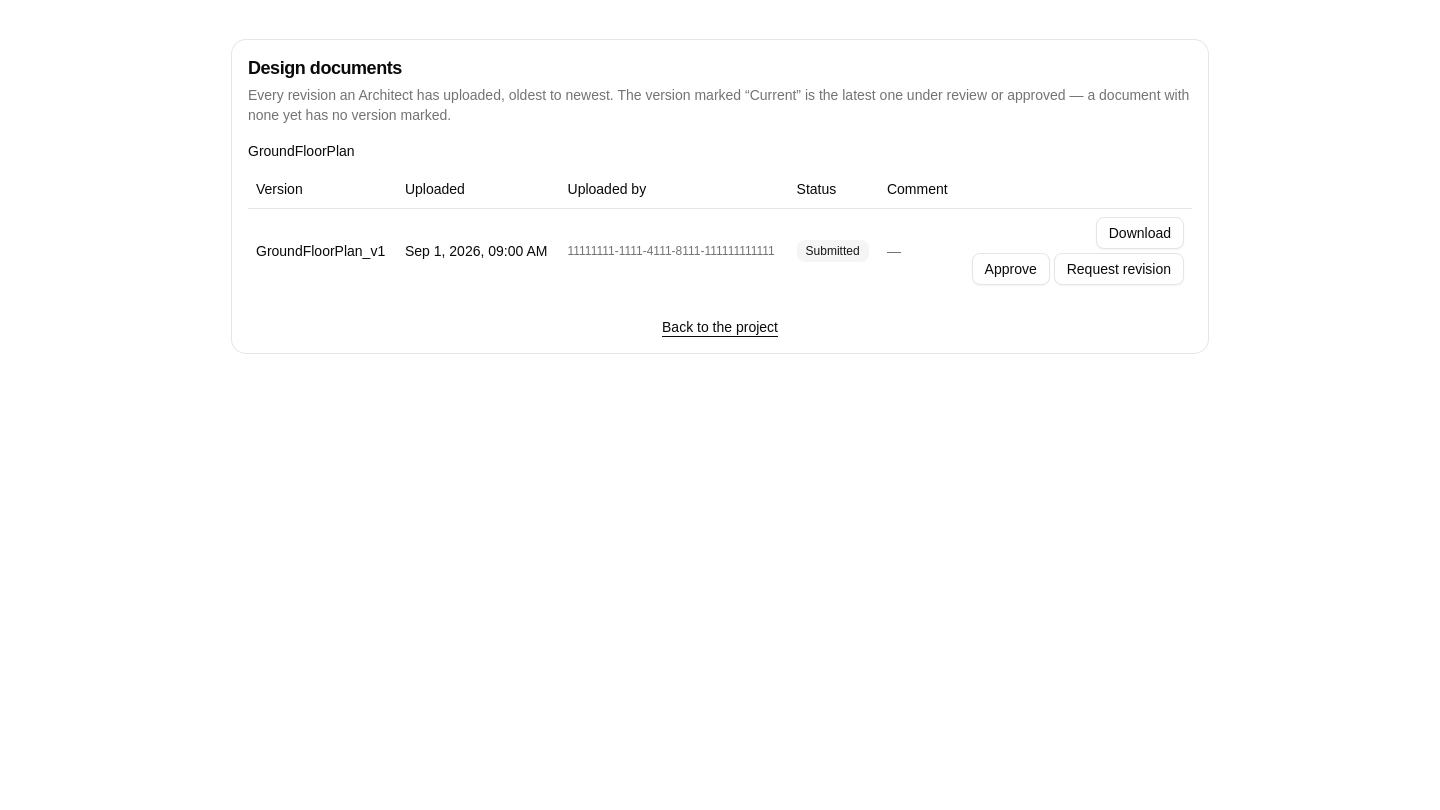
Test: DesignDocumentsPage › lets a Client request a revision, with a comment the Architect will see
Click the button "Request revision".
click(1119, 269)  # box x1=1054 y1=253 x2=1184 y2=285
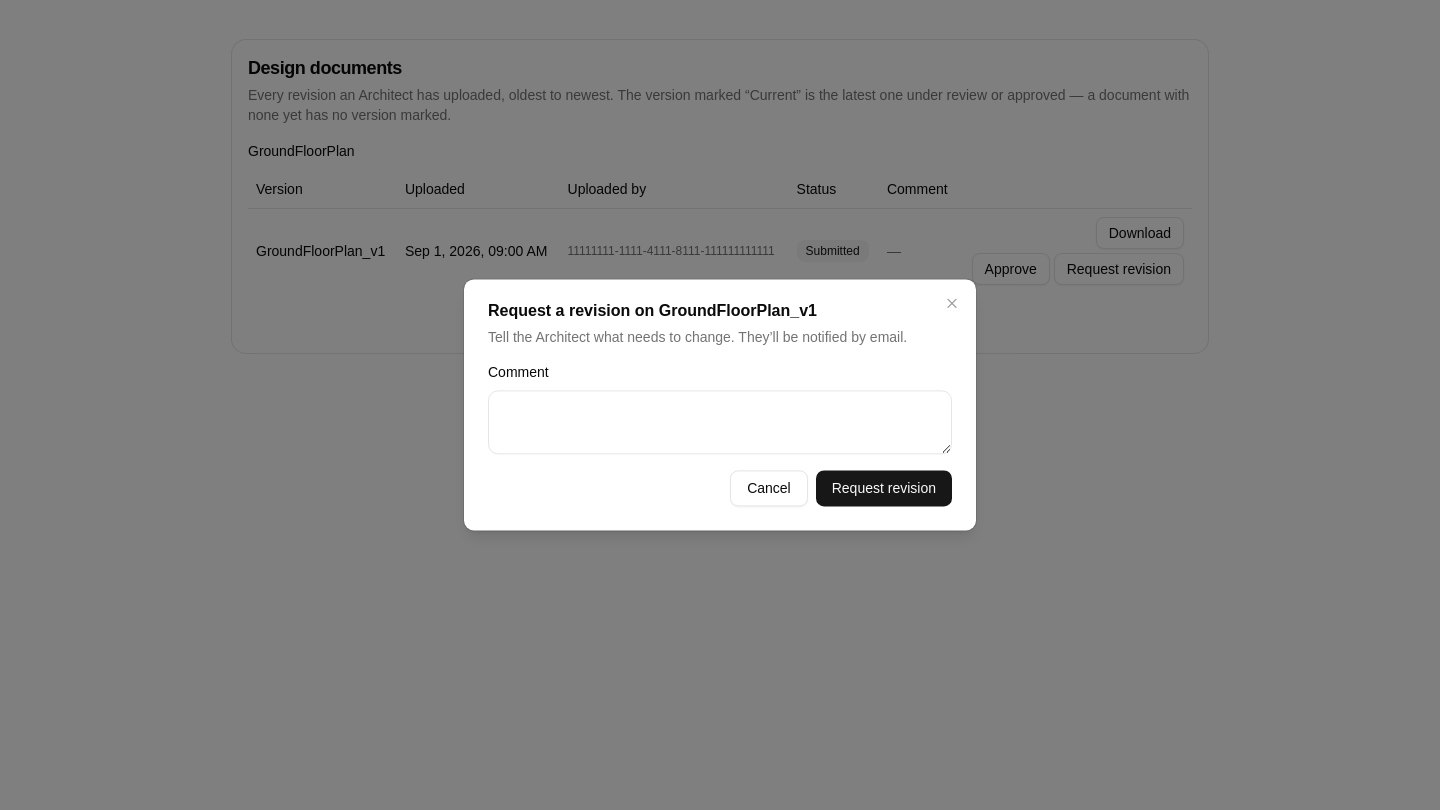
Type "Move the stairs." into the text box labelled "Comment".
click(720, 423); type("Move the stairs.")  # box x1=488 y1=391 x2=952 y2=455
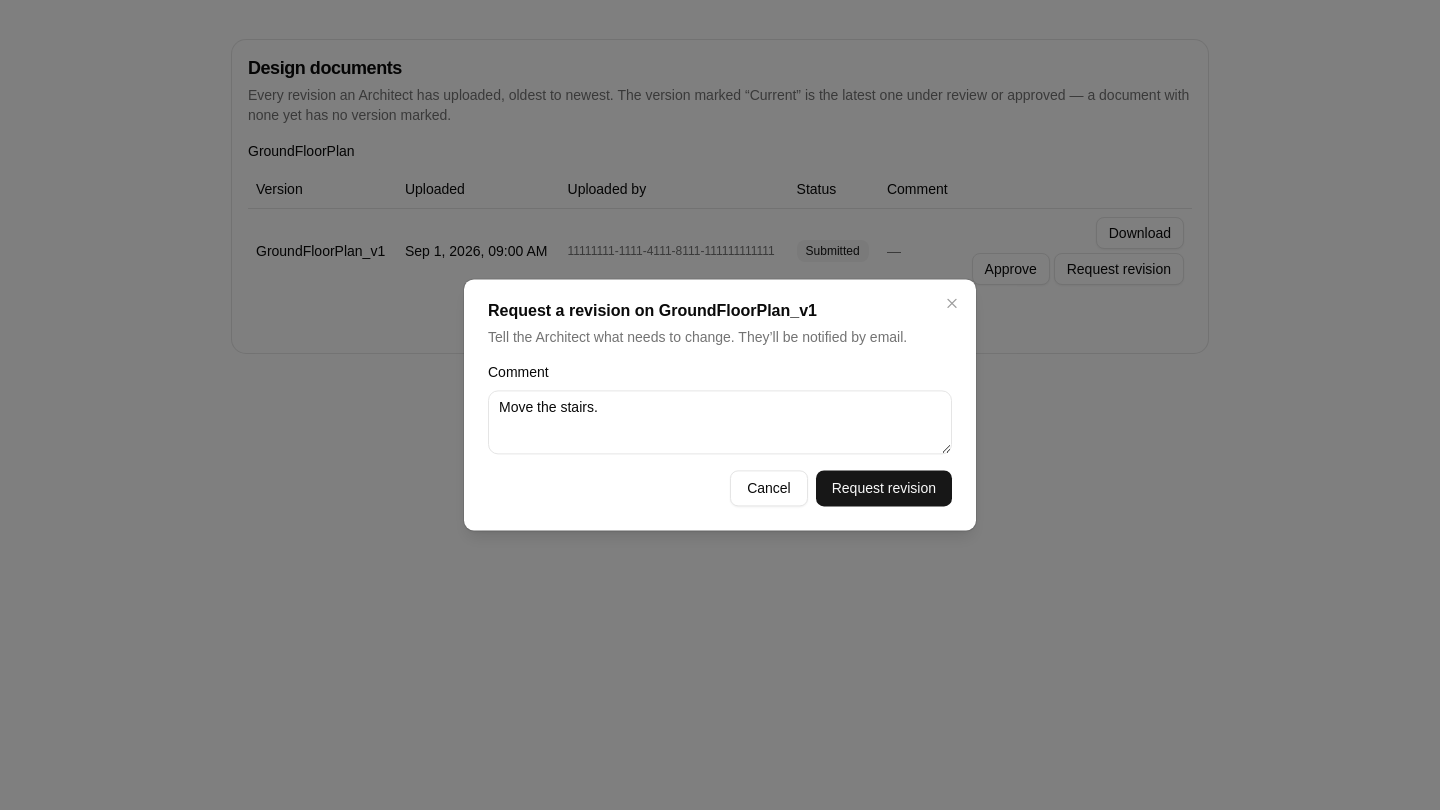
Click the button "Request revision".
click(884, 489)  # box x1=816 y1=471 x2=952 y2=507
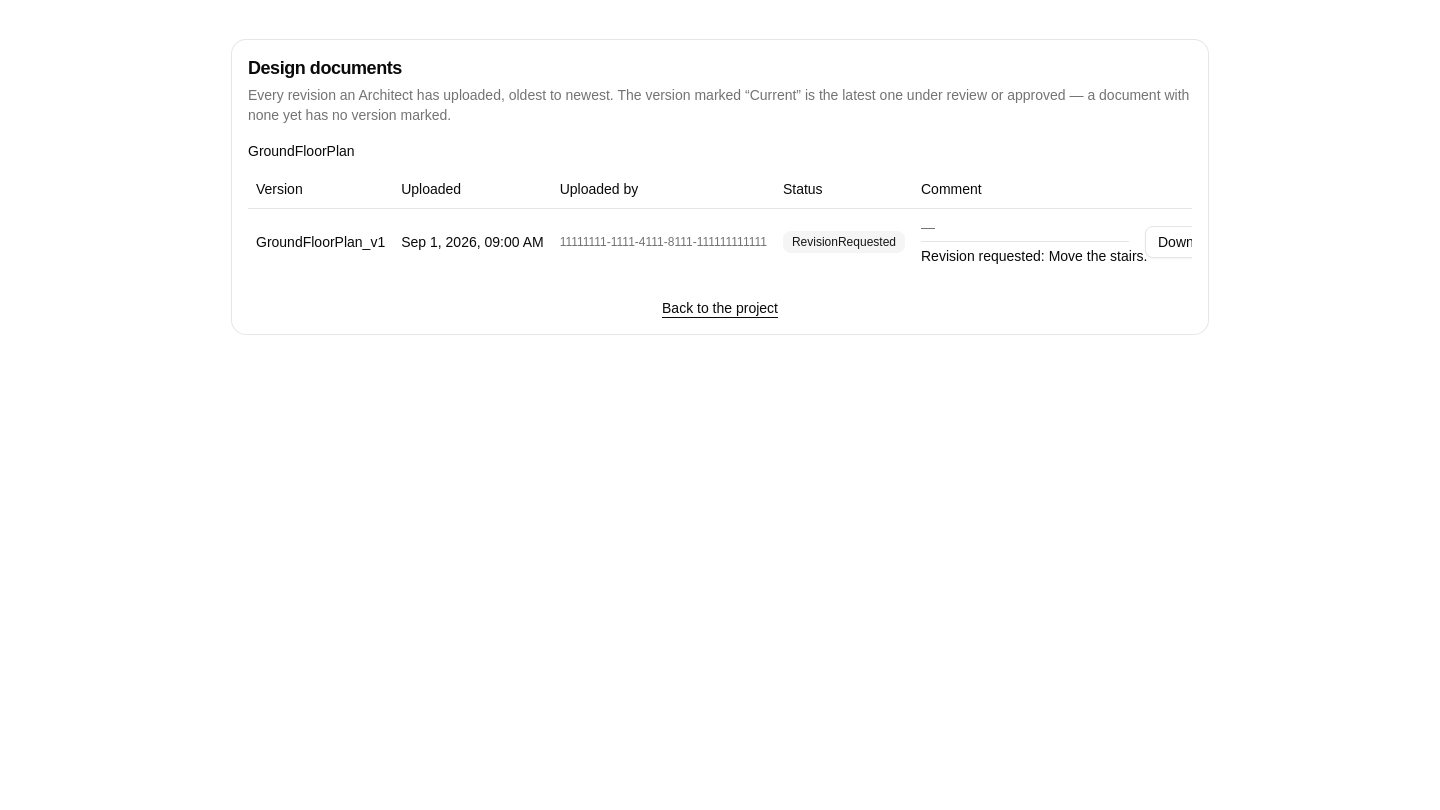
Check: the text "Revision requested:" is shown, box x1=921 y1=248 x2=1045 y2=264
Check: the text "Revision requested: Move the stairs." is shown, box x1=921 y1=241 x2=1129 y2=266
